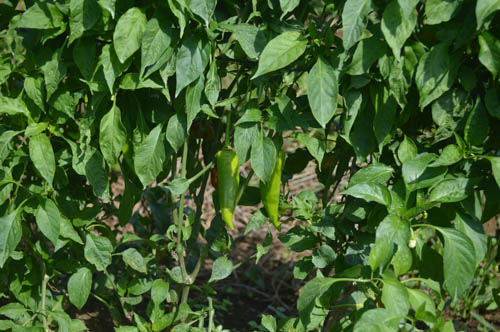ChiliPepper: (216, 153, 238, 233), (263, 149, 282, 226)
